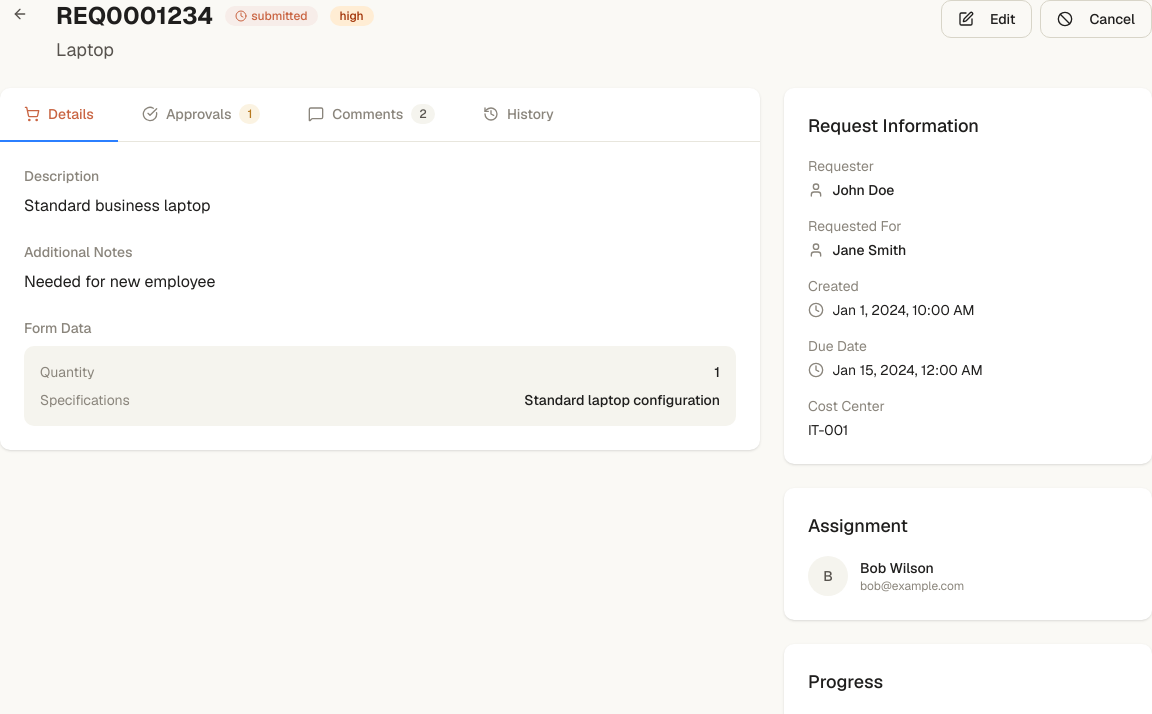
Test: RequestDetailPage › Approvals Tab › switches to approvals tab when clicked
The width and height of the screenshot is (1152, 714).
Expected: the heading "REQ0001234" is shown, [56,0,213,32]
Click the button "Approvals 1". click: (201,115)
box: [118,88,284,142]
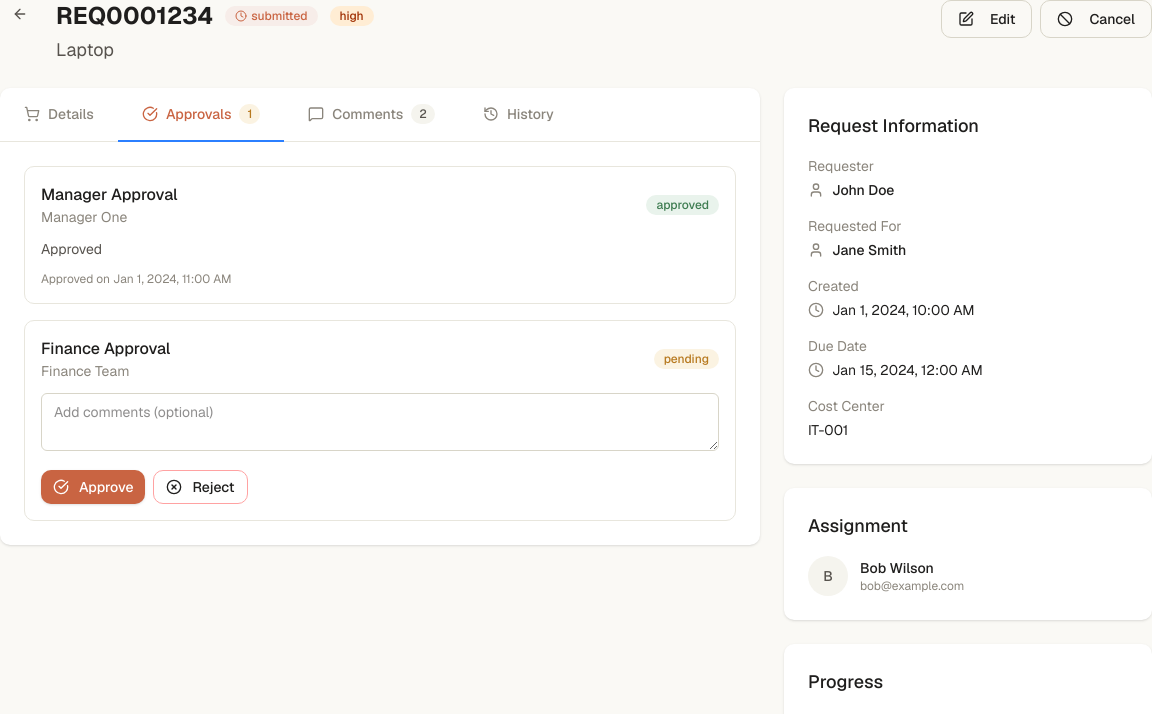
Now the heading "Manager Approval" is shown, box [41,183,178,207]
